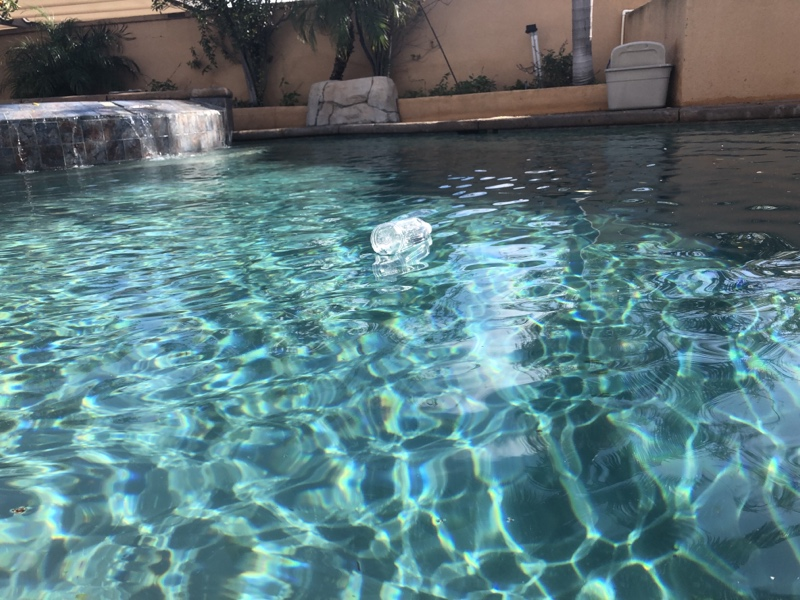Plastic Bottle: (367, 213, 436, 260)
